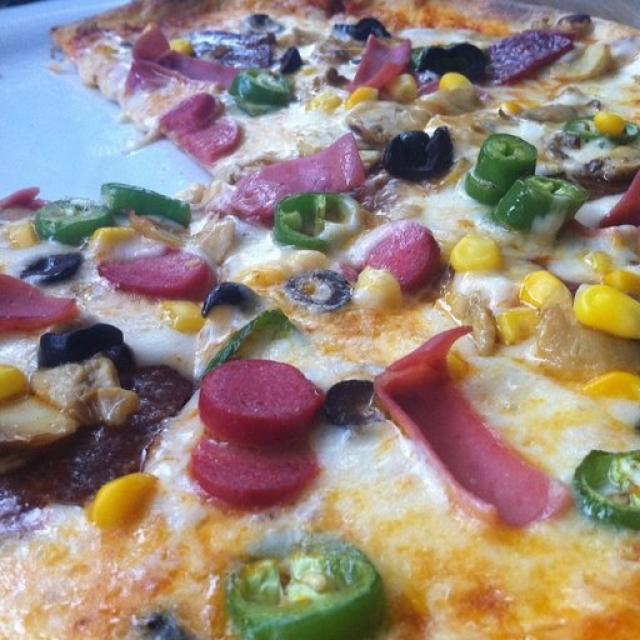Green Pepper: (213, 529, 413, 640), (480, 128, 596, 234), (31, 185, 186, 247), (261, 192, 372, 254), (576, 438, 640, 528), (227, 63, 294, 116)
Ham: (360, 314, 563, 539), (228, 138, 372, 205), (123, 24, 231, 87)
Pizza: (0, 0, 640, 640)
Sausage: (184, 348, 342, 514), (96, 242, 208, 313), (364, 224, 450, 310), (160, 85, 238, 161)
